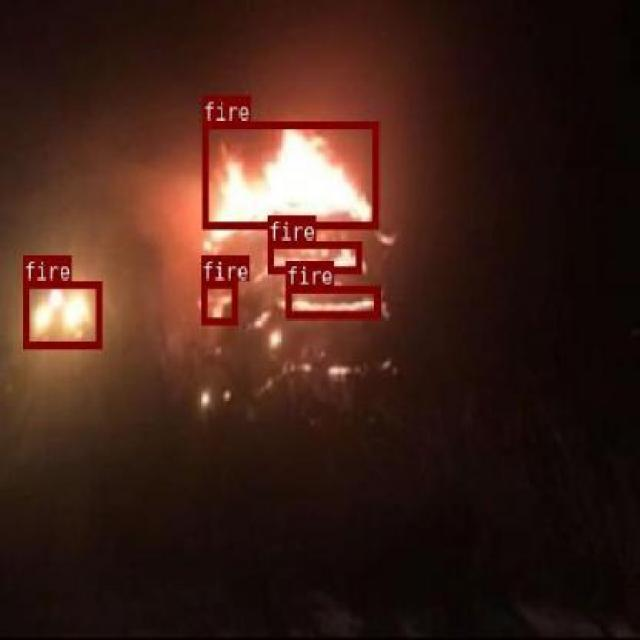Fire: (200, 121, 378, 228), (22, 281, 101, 347), (284, 285, 378, 318), (267, 240, 361, 272), (200, 279, 237, 324)
